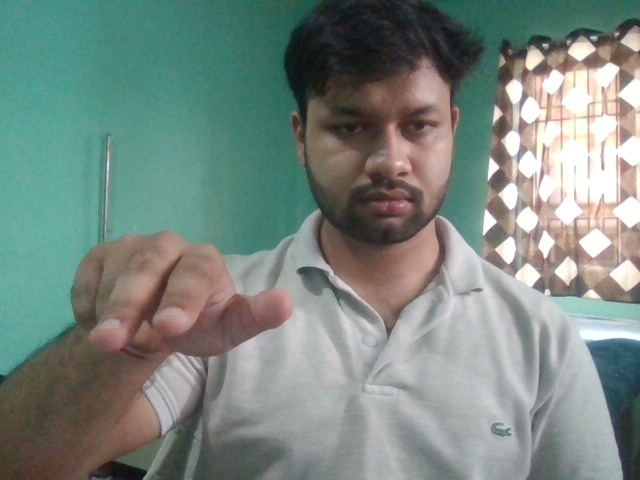No: (69, 229, 295, 372)
